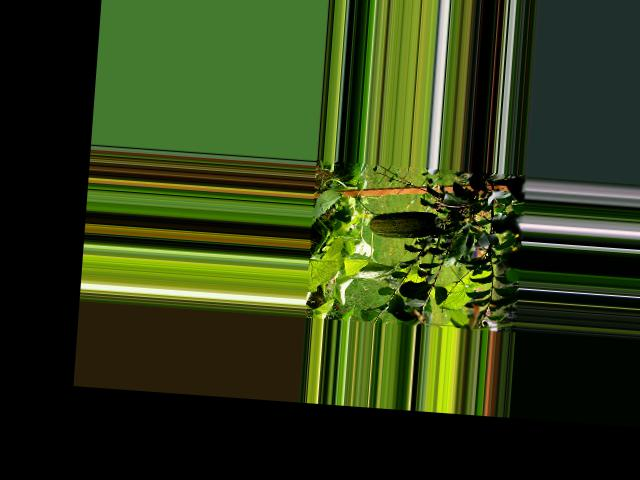cucumber: (368, 207, 445, 240)
